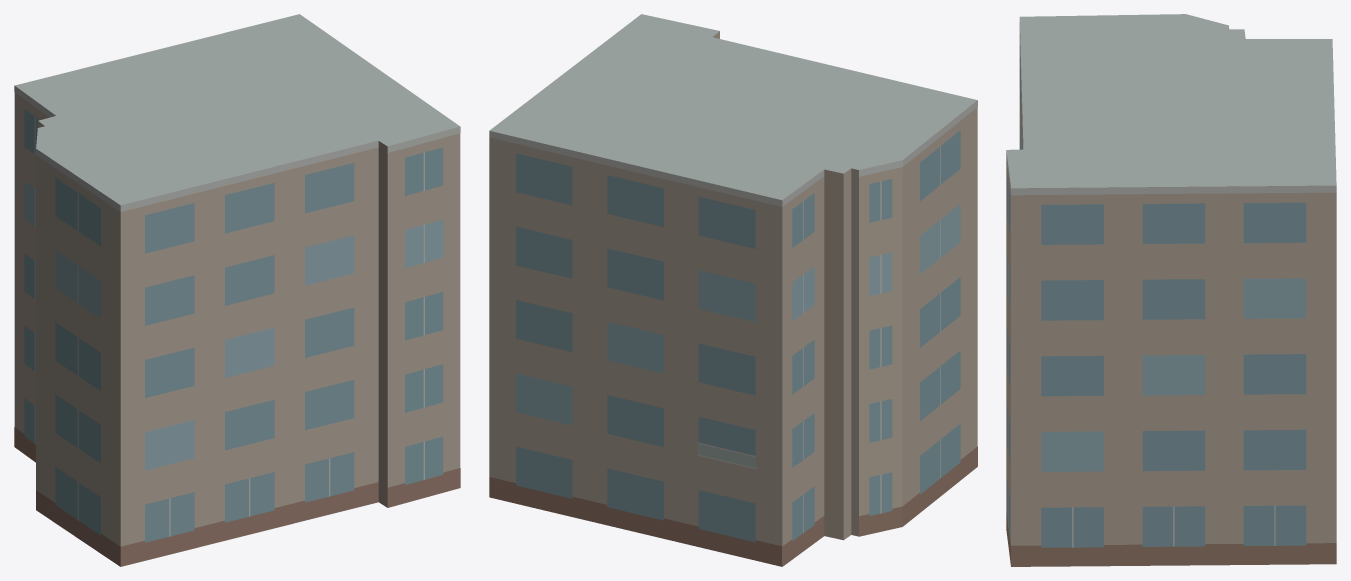
Rendered from survey-upis-32825143.glb.
3 views of the same model, side by side, from view 1: azimuth 30°, elevation 25°; view 2: azimuth 150°, elevation 25°; view 3: azimuth 270°, elevation 25° (orthographic). The views are drawn at different scales.
Parts seen in each view (by area): view 1: survey-upis-32825143.tmp; view 2: survey-upis-32825143.tmp; view 3: survey-upis-32825143.tmp.
Part boxes in pixels (x1=…): survey-upis-32825143.tmp: x1=14, y1=14, x2=460, y2=566; survey-upis-32825143.tmp: x1=489, y1=14, x2=977, y2=566; survey-upis-32825143.tmp: x1=1006, y1=14, x2=1336, y2=566.
Bounding box in the file's own units: 13.04 × 13.2 × 10.45.
